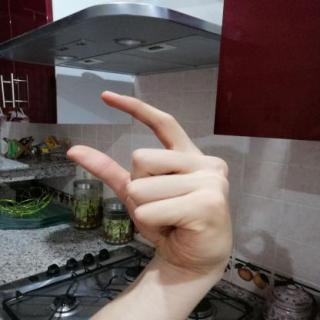DELL: (54, 83, 249, 275)
